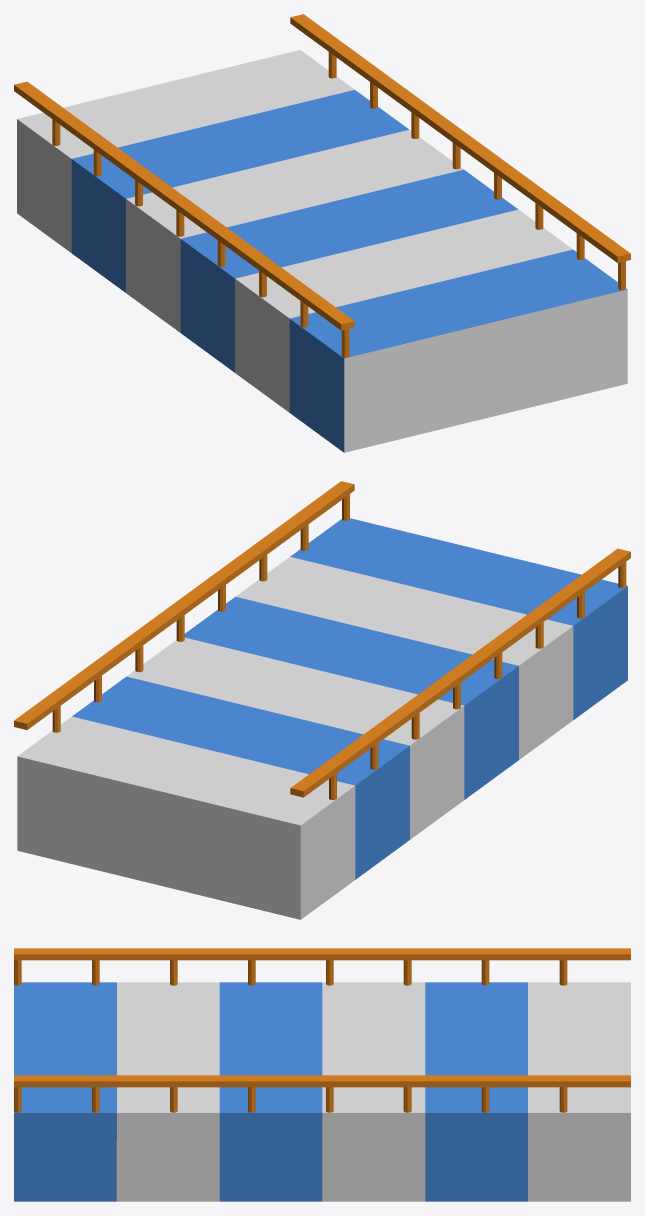
Rendered from demirliplatform (2).fbx.
The picture shows the model from 3 angles, top to bottom: view 1: azimuth 30°, elevation 25°; view 2: azimuth 150°, elevation 25°; view 3: azimuth 270°, elevation 25°; orthographic projection. The views are drawn at different scales.
Visible parts, largest first — view 1: solplatform, korumademirleri; view 2: solplatform, korumademirleri; view 3: solplatform, korumademirleri.
Boxes of the visible parts, x1,y1,x2,y2 form: solplatform: (17,50,627,452); korumademirleri: (14,14,630,357); solplatform: (17,518,627,919); korumademirleri: (14,481,630,799); solplatform: (14,982,630,1201); korumademirleri: (14,948,630,1112).
Bounding box in the file's own units: 204 × 87.2 × 400.
